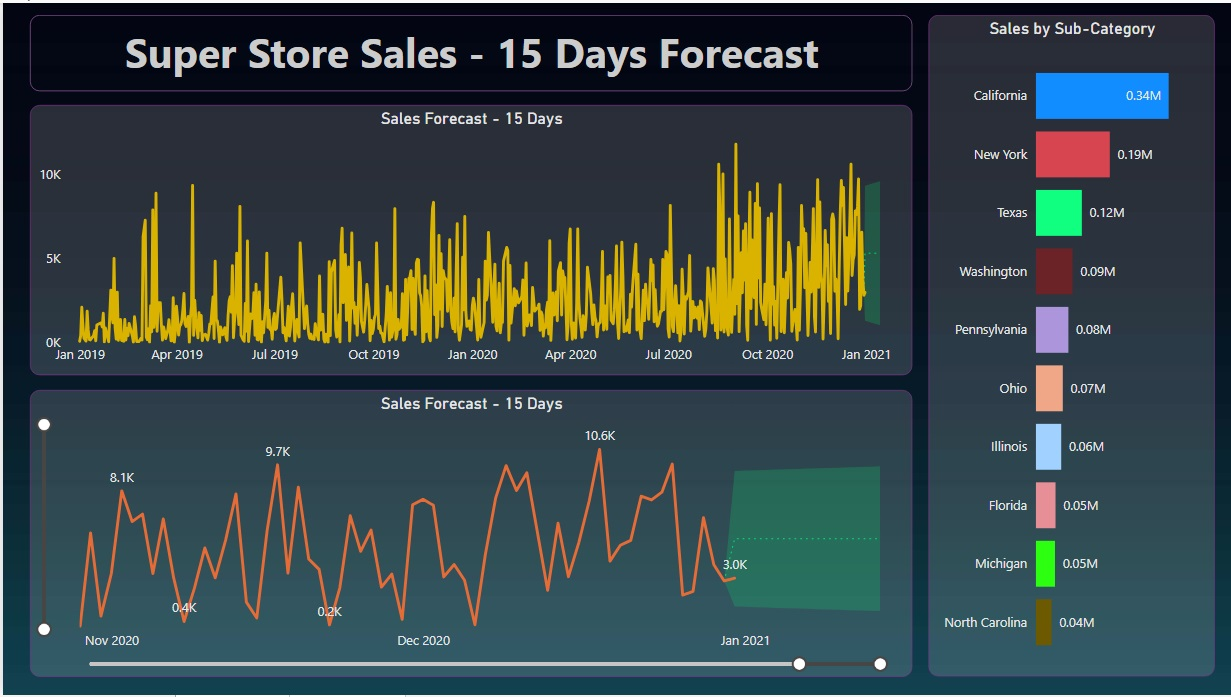

What the dashboard file says about the page in this screenshot:
{"tool":"powerbi","page":{"name":"Page 2","canvas":[1280,720],"ordinal":1},"visuals":[{"type":"lineChart","title":"Sales Forecast - 15 Days","fields":{"Y":["Sum(SuperStore_Sales_Dataset.Sales)"],"Category":["SuperStore_Sales_Dataset.Order Date"]},"box":[28.3,105.8,918.4,281.6],"z":0},{"type":"lineChart","title":"Sales Forecast - 15 Days","fields":{"Y":["Sum(SuperStore_Sales_Dataset.Sales)"],"Category":["SuperStore_Sales_Dataset.Order Date"]},"box":[28.3,402.5,918.4,298.6],"z":1},{"type":"textbox","box":[28.3,13.2,918.4,79.4],"z":2},{"type":"clusteredBarChart","title":"Sales by Sub-Category","fields":{"Y":["Sum(SuperStore_Sales_Dataset.Sales)"],"Category":["SuperStore_Sales_Dataset.State"]},"box":[963.6,12.5,298.3,688.8],"z":3}]}

Visuals, with their boxes in screenshot pixels (x1, y1, x2, y2), scaled from the page's 1280x720 canvas onto the 1231x697 screenshot:
"Sales Forecast - 15 Days" lineChart: [27, 102, 910, 375]
"Sales Forecast - 15 Days" lineChart: [27, 390, 910, 679]
textbox: [27, 13, 910, 90]
"Sales by Sub-Category" clusteredBarChart: [927, 12, 1214, 679]
